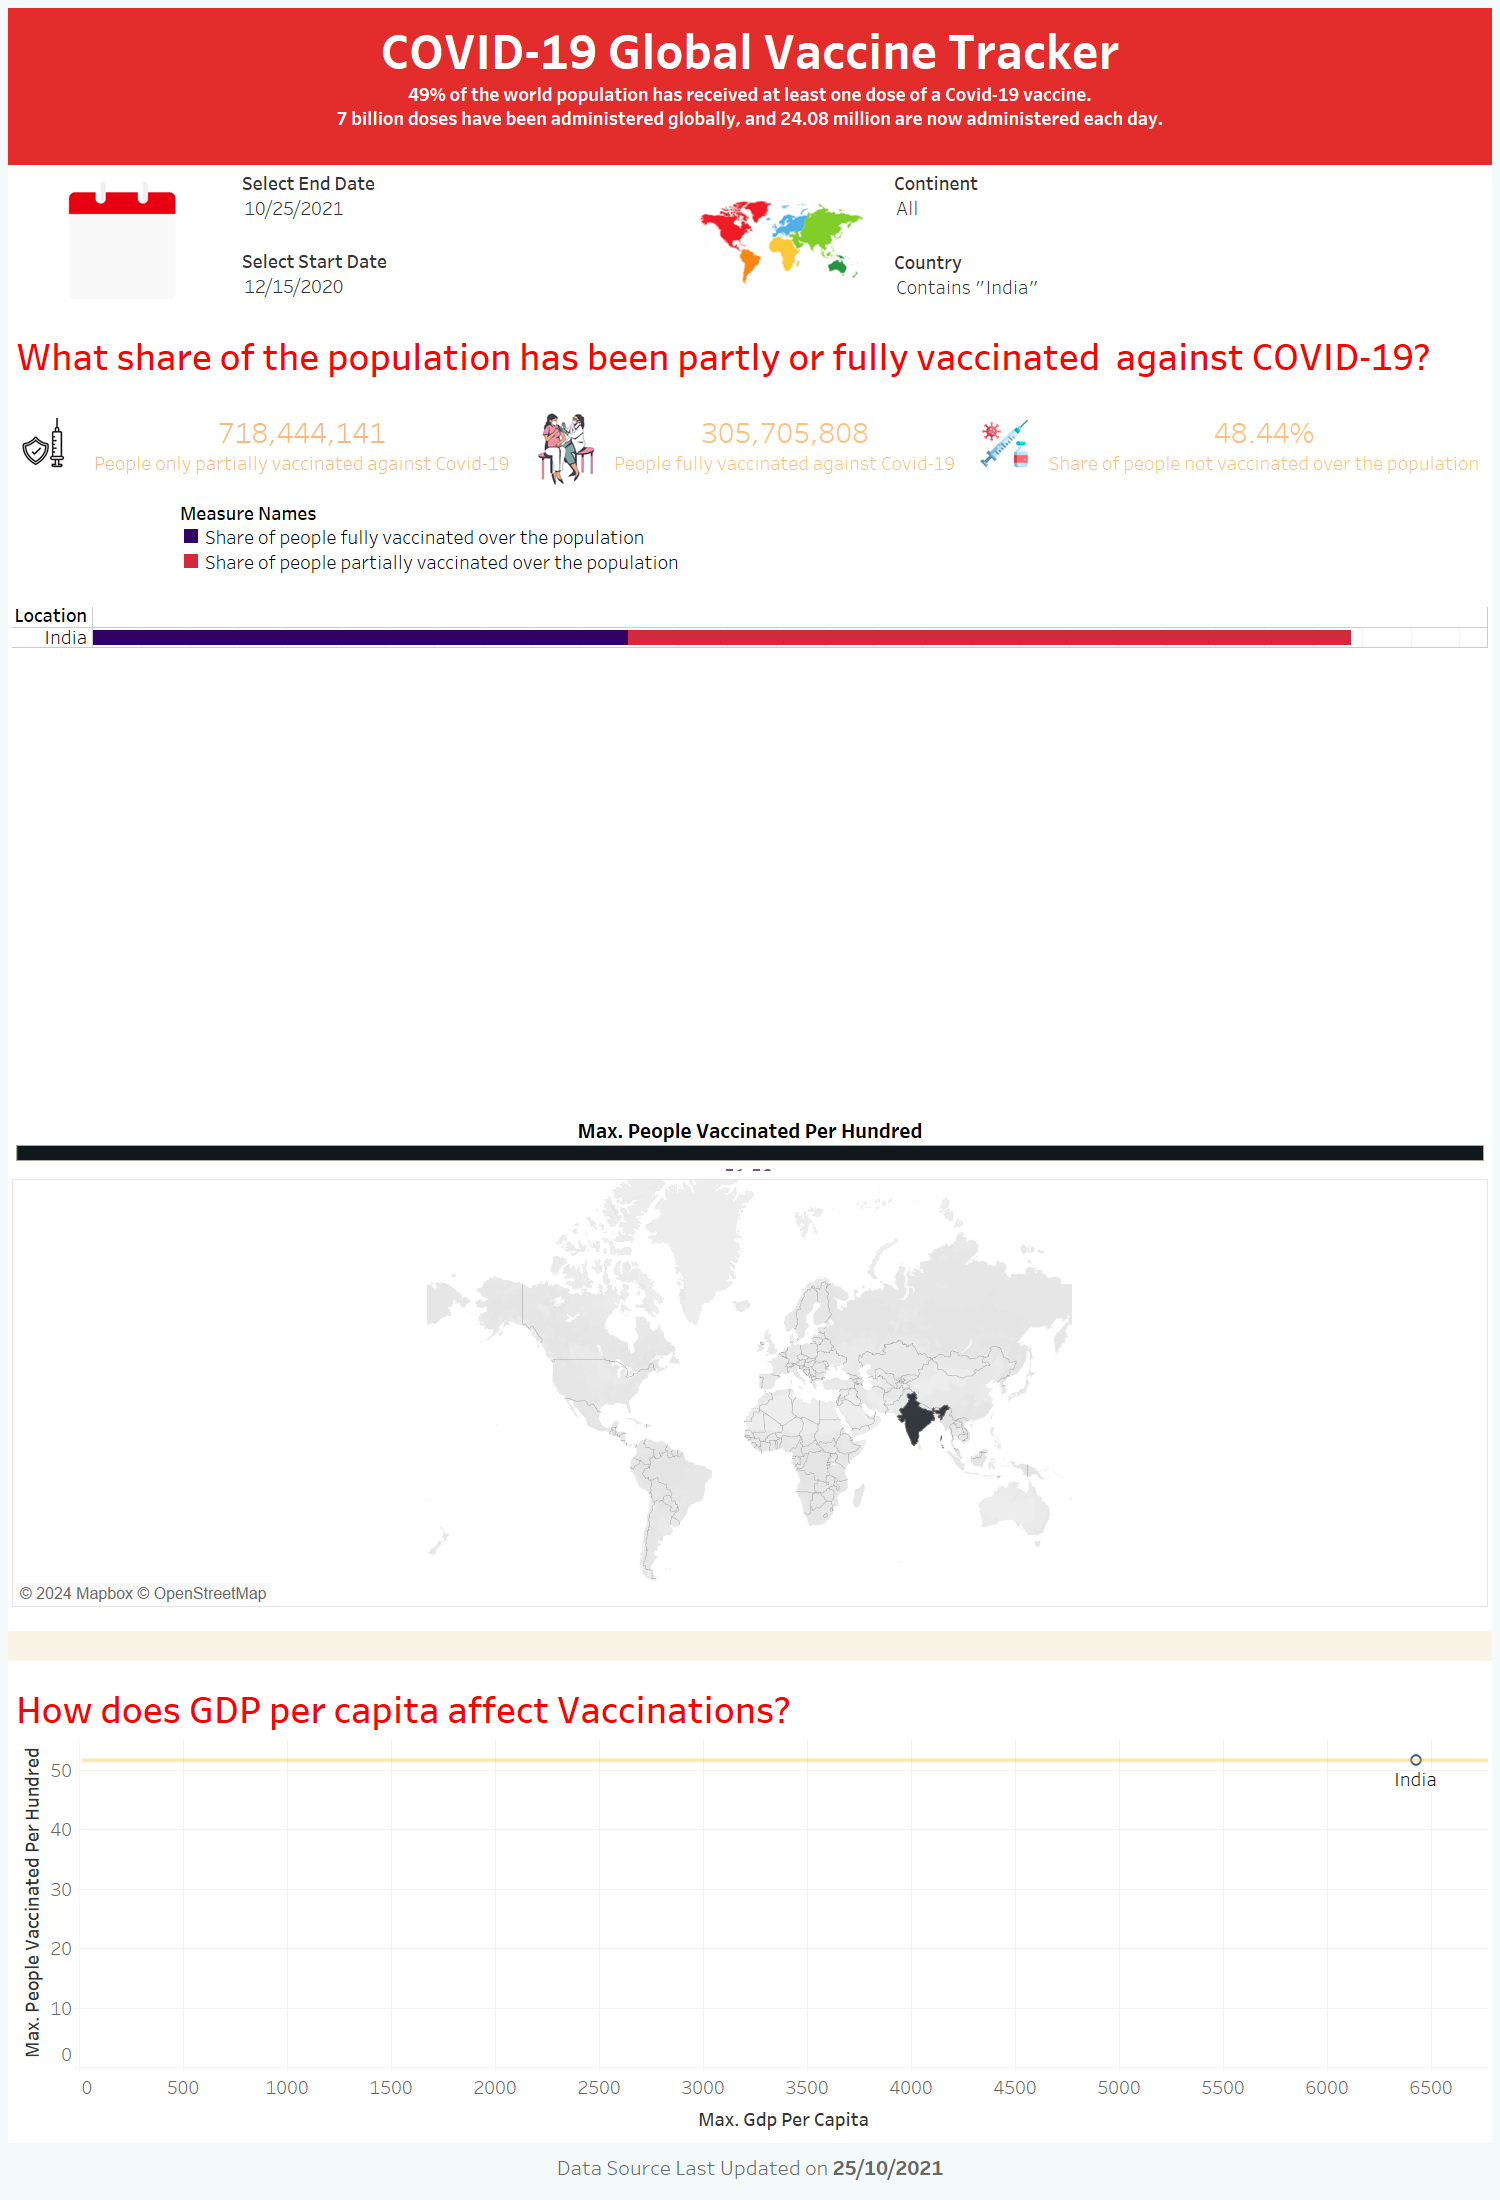

The dashboard page shown, as its layout file describes it:
{"tool":"tableau","page":{"name":"Checking Global Vaccine Tracker","canvas":[1000,1000],"units":"permille","ordinal":0},"visuals":[{"type":"filter","title":"KPI 1 - people partially vaccinated","param":"[federated.1aadtqk14qli1811abobz02u3i1x].[none:Continent:nk]","box":[5,9.1,990,41.3]},{"type":"filter","title":"KPI 1 - people partially vaccinated","param":"[federated.1aadtqk14qli1811abobz02u3i1x].[none:Location (copy):nk]","box":[5,50.4,990,41.3]},{"type":"parameter","param":"[Parameters].[Select Start Date (copy)_3562065877622194179]","box":[5,91.7,990,41.3]},{"type":"parameter","param":"[Parameters].[Parameter 1]","box":[5,132.9,990,41.3]},{"type":"worksheet","title":"KPI 1 - people partially vaccinated","mark":"Automatic","box":[5,174.3,330.4,206.2]},{"type":"worksheet","title":"KPI 2 - people fully vaccinated","mark":"Automatic","box":[335.4,174.3,329.8,206.2]},{"type":"worksheet","title":"KPI 3 - Share of people not vaccinated over the population","mark":"Automatic","box":[665.2,174.3,329.8,206.2]},{"type":"worksheet","title":"Vac vs Fully Vacc per location","mark":"Bar","rows":["Location"],"cols":["Calculation_3562065877612969984"],"box":[5,380.4,303.6,610.5]},{"type":"worksheet","title":"Vaccinated over GDP","mark":"Automatic","rows":["People Vaccinated Per Hundred"],"cols":["Gdp Per Capita"],"box":[308.6,380.4,345.4,610.5]},{"type":"worksheet","title":"Vaccination per hundread - Map","mark":"Automatic","box":[654,380.4,341,610.5]}]}

Visuals, with their boxes on the dashboard's canvas, which has no fixed pixel size, in thousandths of its width and height (x1, y1, x2, y2). These are canvas units, not pixel positions in the 1500x2200 screenshot, which may show the page scaled, cropped or inside an application window:
"KPI 1 - people partially vaccinated" filter: rect(5, 9, 995, 50)
"KPI 1 - people partially vaccinated" filter: rect(5, 50, 995, 92)
parameter: rect(5, 92, 995, 133)
parameter: rect(5, 133, 995, 174)
"KPI 1 - people partially vaccinated" worksheet: rect(5, 174, 335, 380)
"KPI 2 - people fully vaccinated" worksheet: rect(335, 174, 665, 380)
"KPI 3 - Share of people not vaccinated over the population" worksheet: rect(665, 174, 995, 380)
"Vac vs Fully Vacc per location" worksheet (Bar marks): rect(5, 380, 309, 991)
"Vaccinated over GDP" worksheet: rect(309, 380, 654, 991)
"Vaccination per hundread - Map" worksheet: rect(654, 380, 995, 991)
